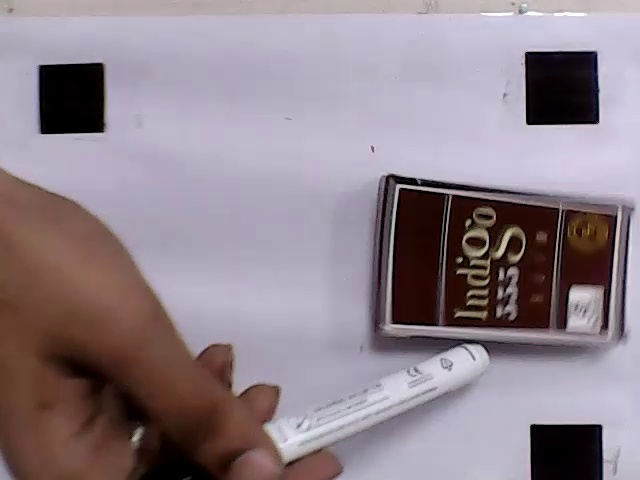BEX: (390, 186, 621, 338)
